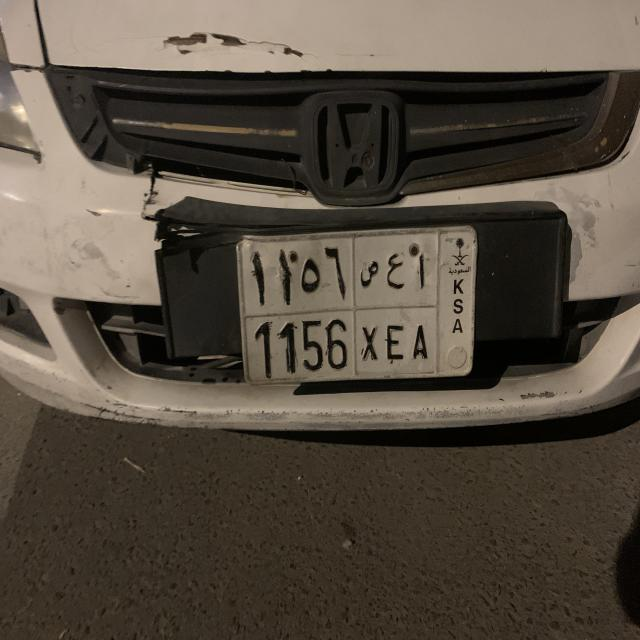license_plate: (233, 218, 483, 391)
